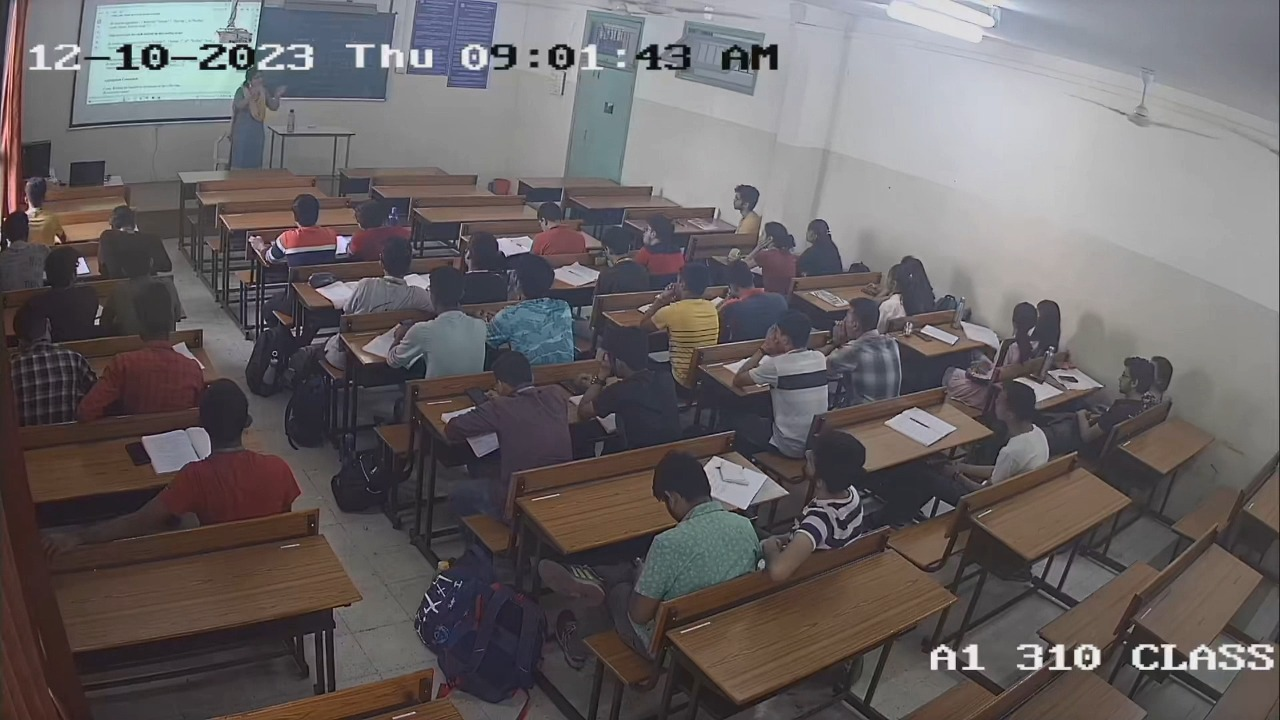cell-phones: (123, 439, 154, 468), (462, 385, 493, 408), (557, 378, 587, 398), (910, 328, 934, 343), (1024, 371, 1046, 384), (591, 254, 608, 268), (1057, 374, 1080, 384)
person: (142, 378, 301, 518), (462, 351, 574, 461), (578, 328, 677, 449), (1090, 355, 1157, 420), (595, 225, 648, 294), (989, 299, 1040, 362)
